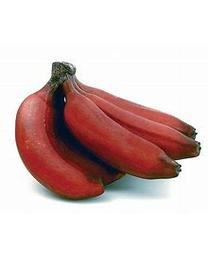banana: (14, 61, 194, 199)
